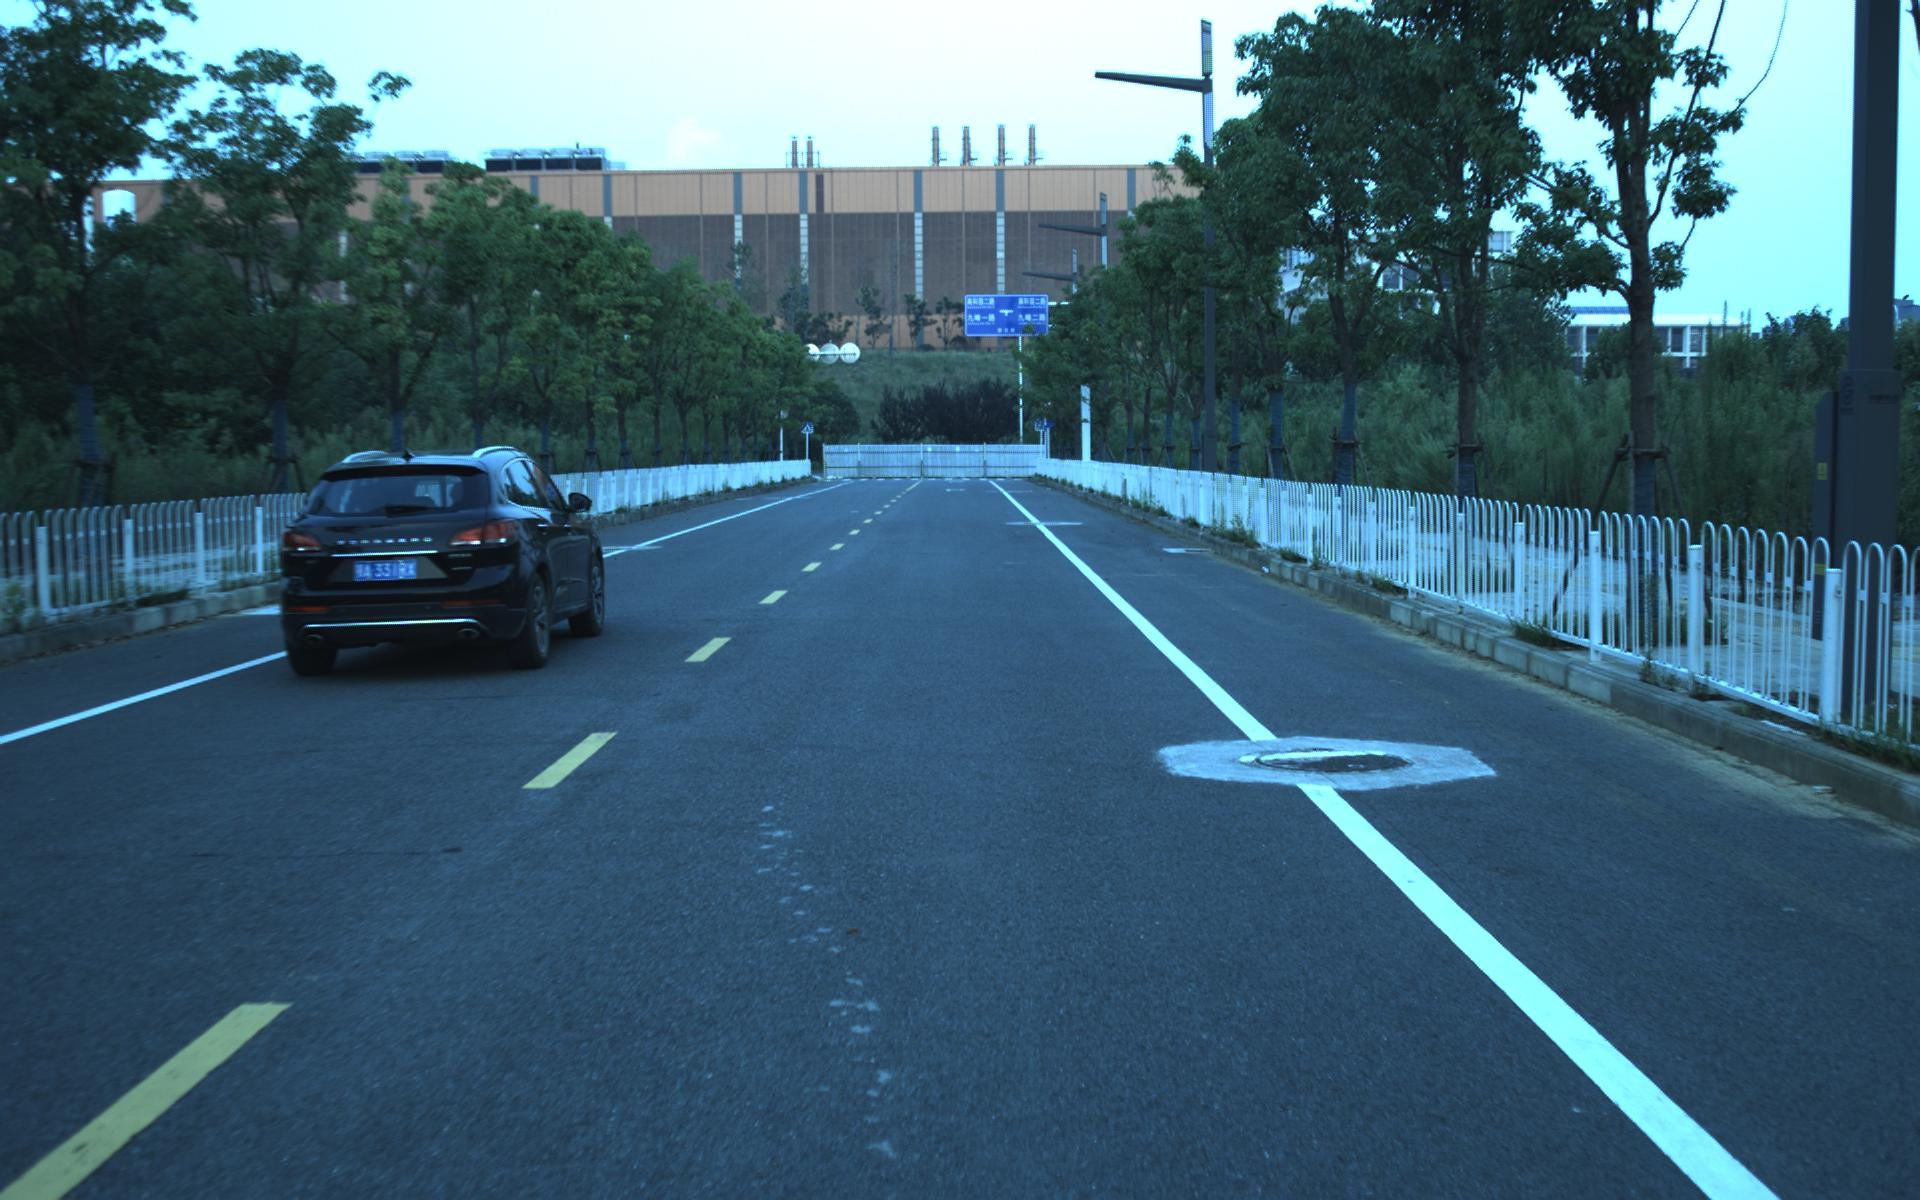Car: (261, 440, 612, 680)
